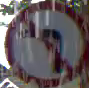Don't turn left: (6, 0, 85, 87)
